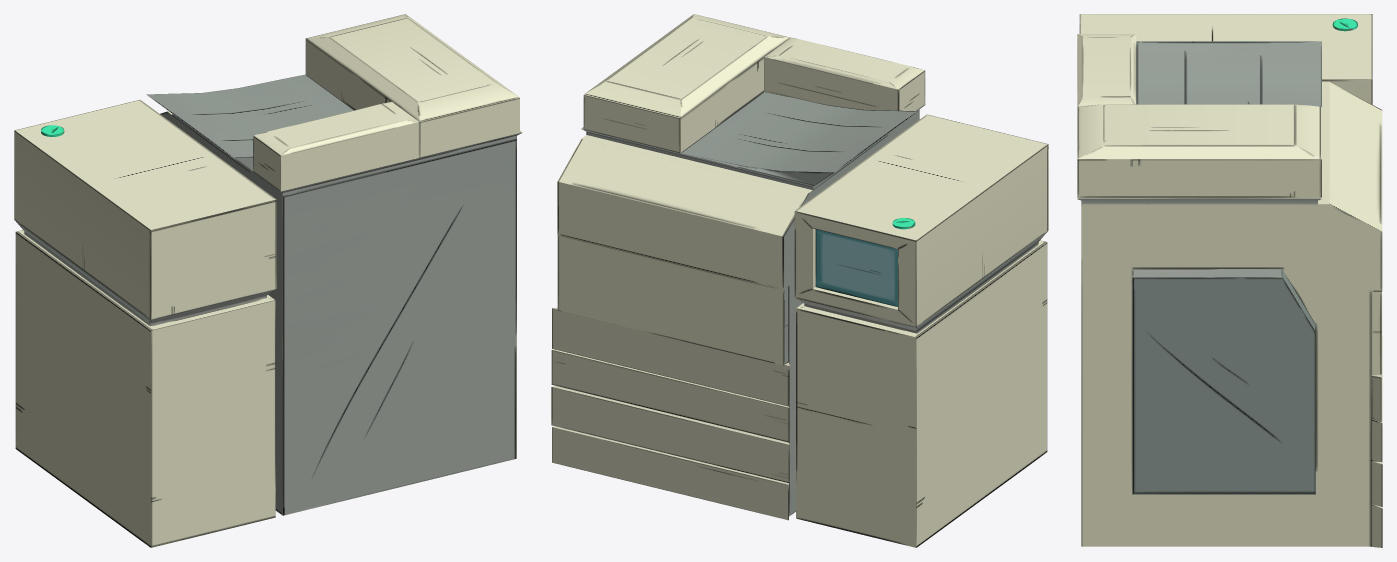
File: printer.fbx
The picture shows the model from 3 angles, left to right: view 1: azimuth 30°, elevation 25°; view 2: azimuth 150°, elevation 25°; view 3: azimuth 270°, elevation 25°; orthographic projection. The views are drawn at different scales.
Parts seen in each view (by area): view 1: printer1; view 2: printer1; view 3: printer1.
Boxes of the visible parts, x1,y1,x2,y2 form: printer1: (14, 14, 522, 547); printer1: (551, 14, 1048, 547); printer1: (1077, 14, 1382, 547).
Size of the model in its own units: 1.64 by 1.51 by 1.05.
